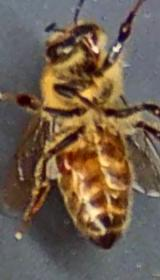varroa_mite: (46, 141, 77, 175)
